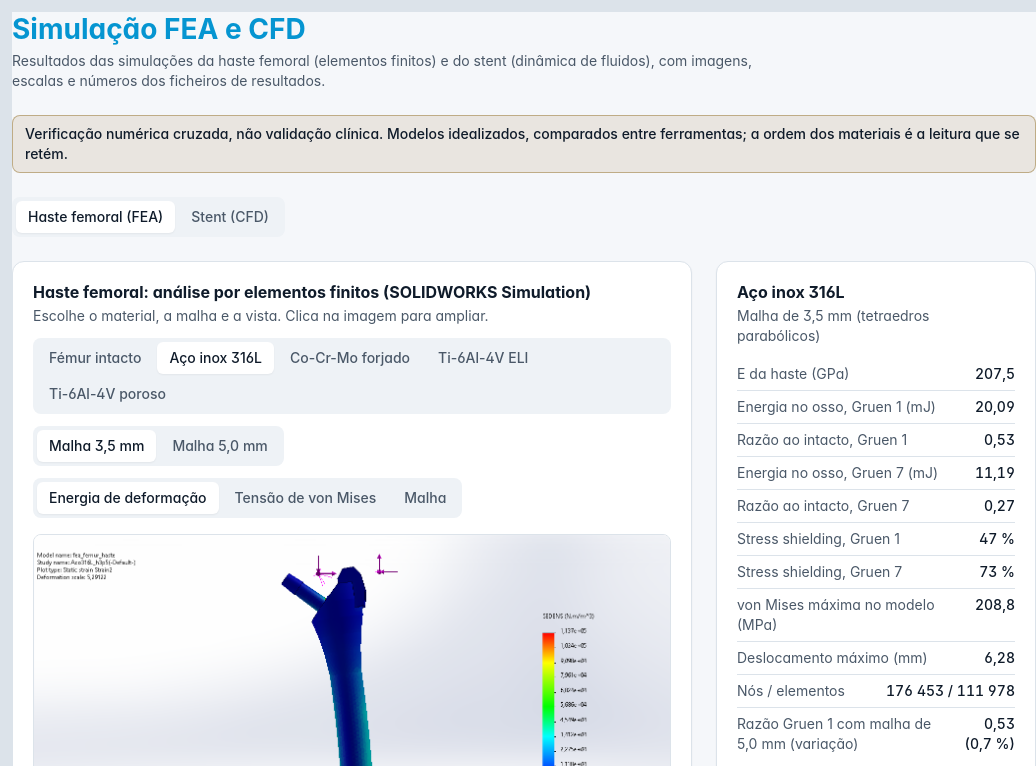
Test: mapas de von Mises do MAPDL › voltar à malha repõe o seletor de malha da SOLIDWORKS
Step 1. Click the radio button labelled "Tensão de von Mises" → coordinates (305, 498), box [223,482,388,514]
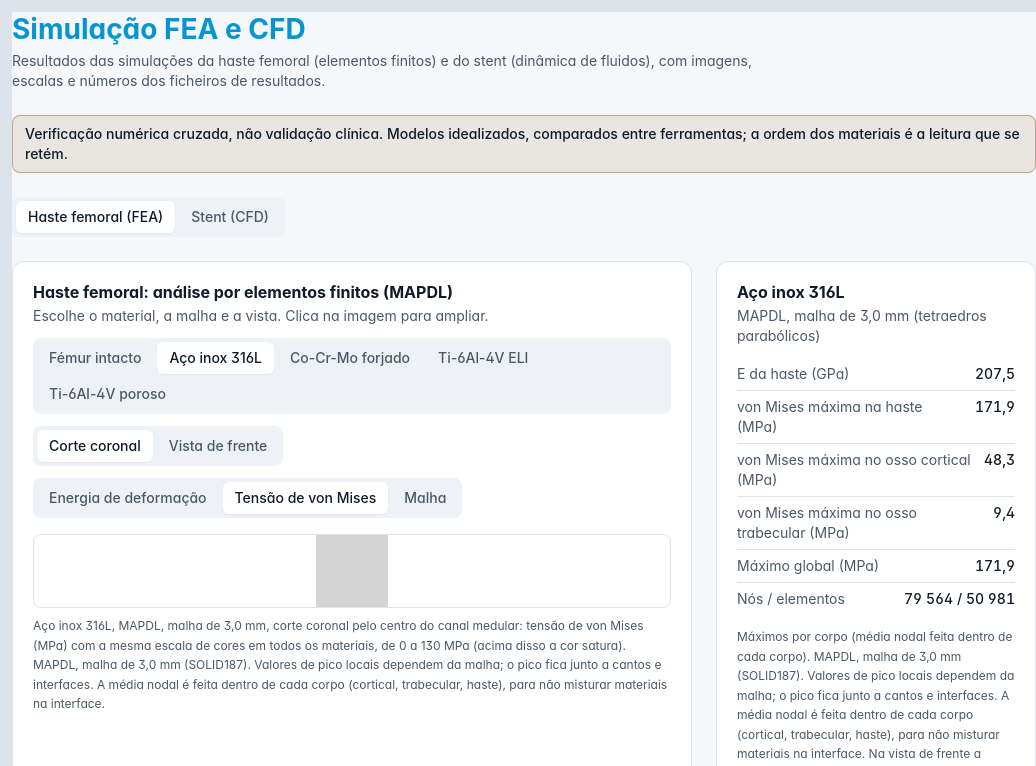
Step 2. Click the radio button labelled "Malha" → coordinates (425, 498), box [392,482,458,514]
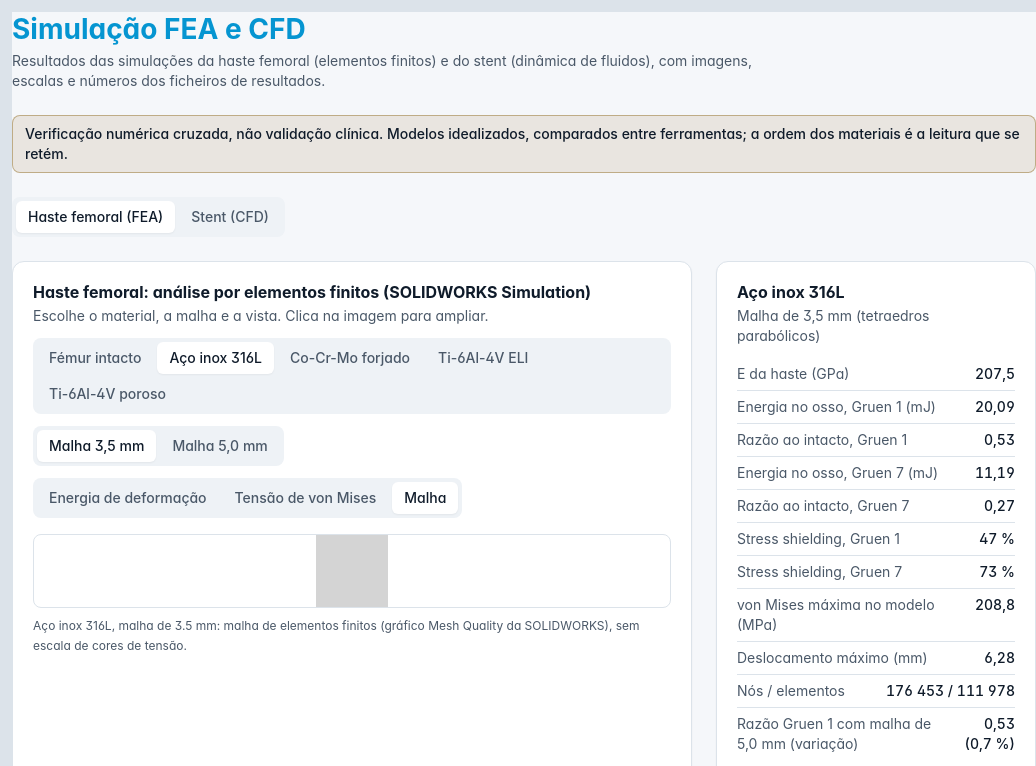
Expected: the radio button labelled "Malha 5,0 mm" is shown, [160,430,280,462]
